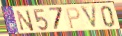0: (100, 5, 116, 29)
5: (32, 8, 50, 32)
7: (48, 7, 64, 32)
N: (15, 9, 36, 32)
P: (65, 7, 81, 30)
V: (80, 4, 98, 30)
